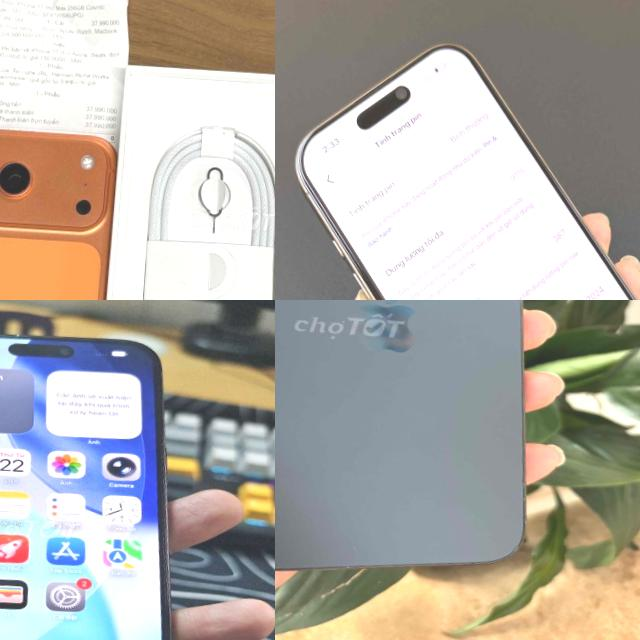scratch: (9, 330, 25, 340)
